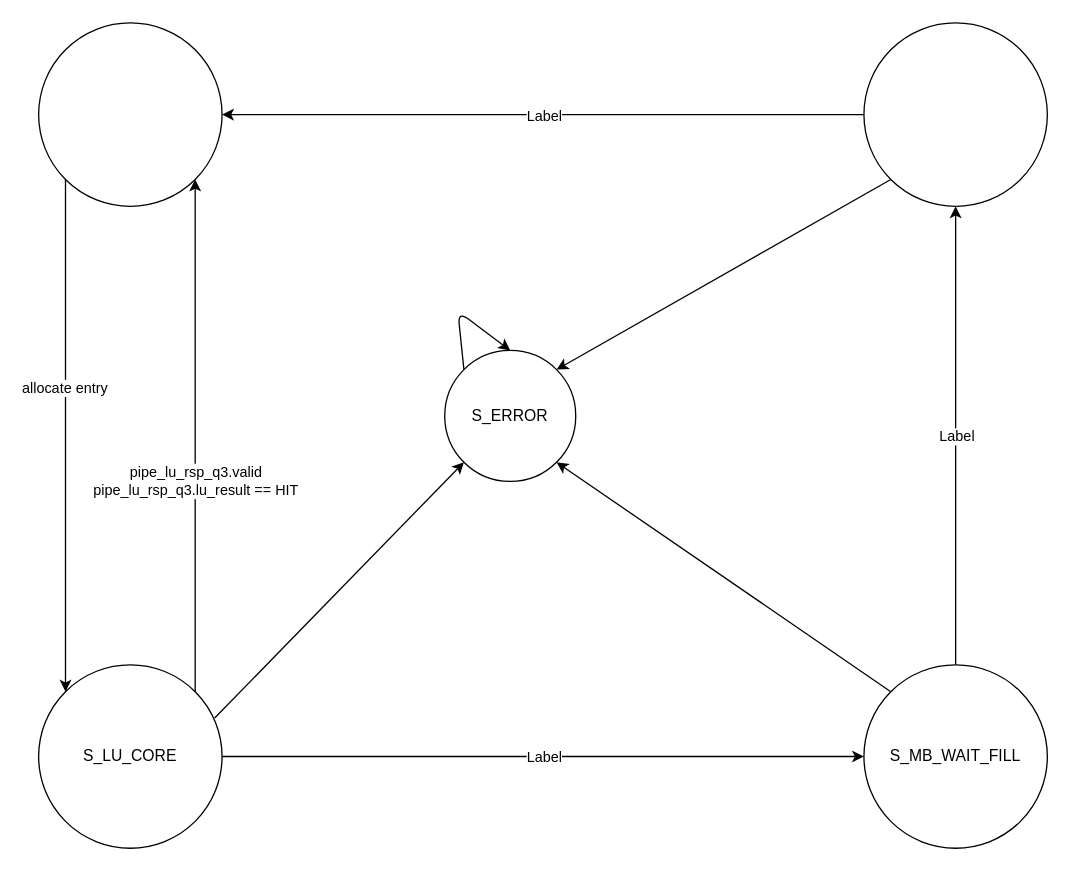
This 1072x871 diagram has some shape labels left out. The centre of each missing label's shape, as x and y in pixels:
"S_IDLE" goes at (x=129, y=114).
"S_MB_FILL_READY" goes at (x=955, y=114).
